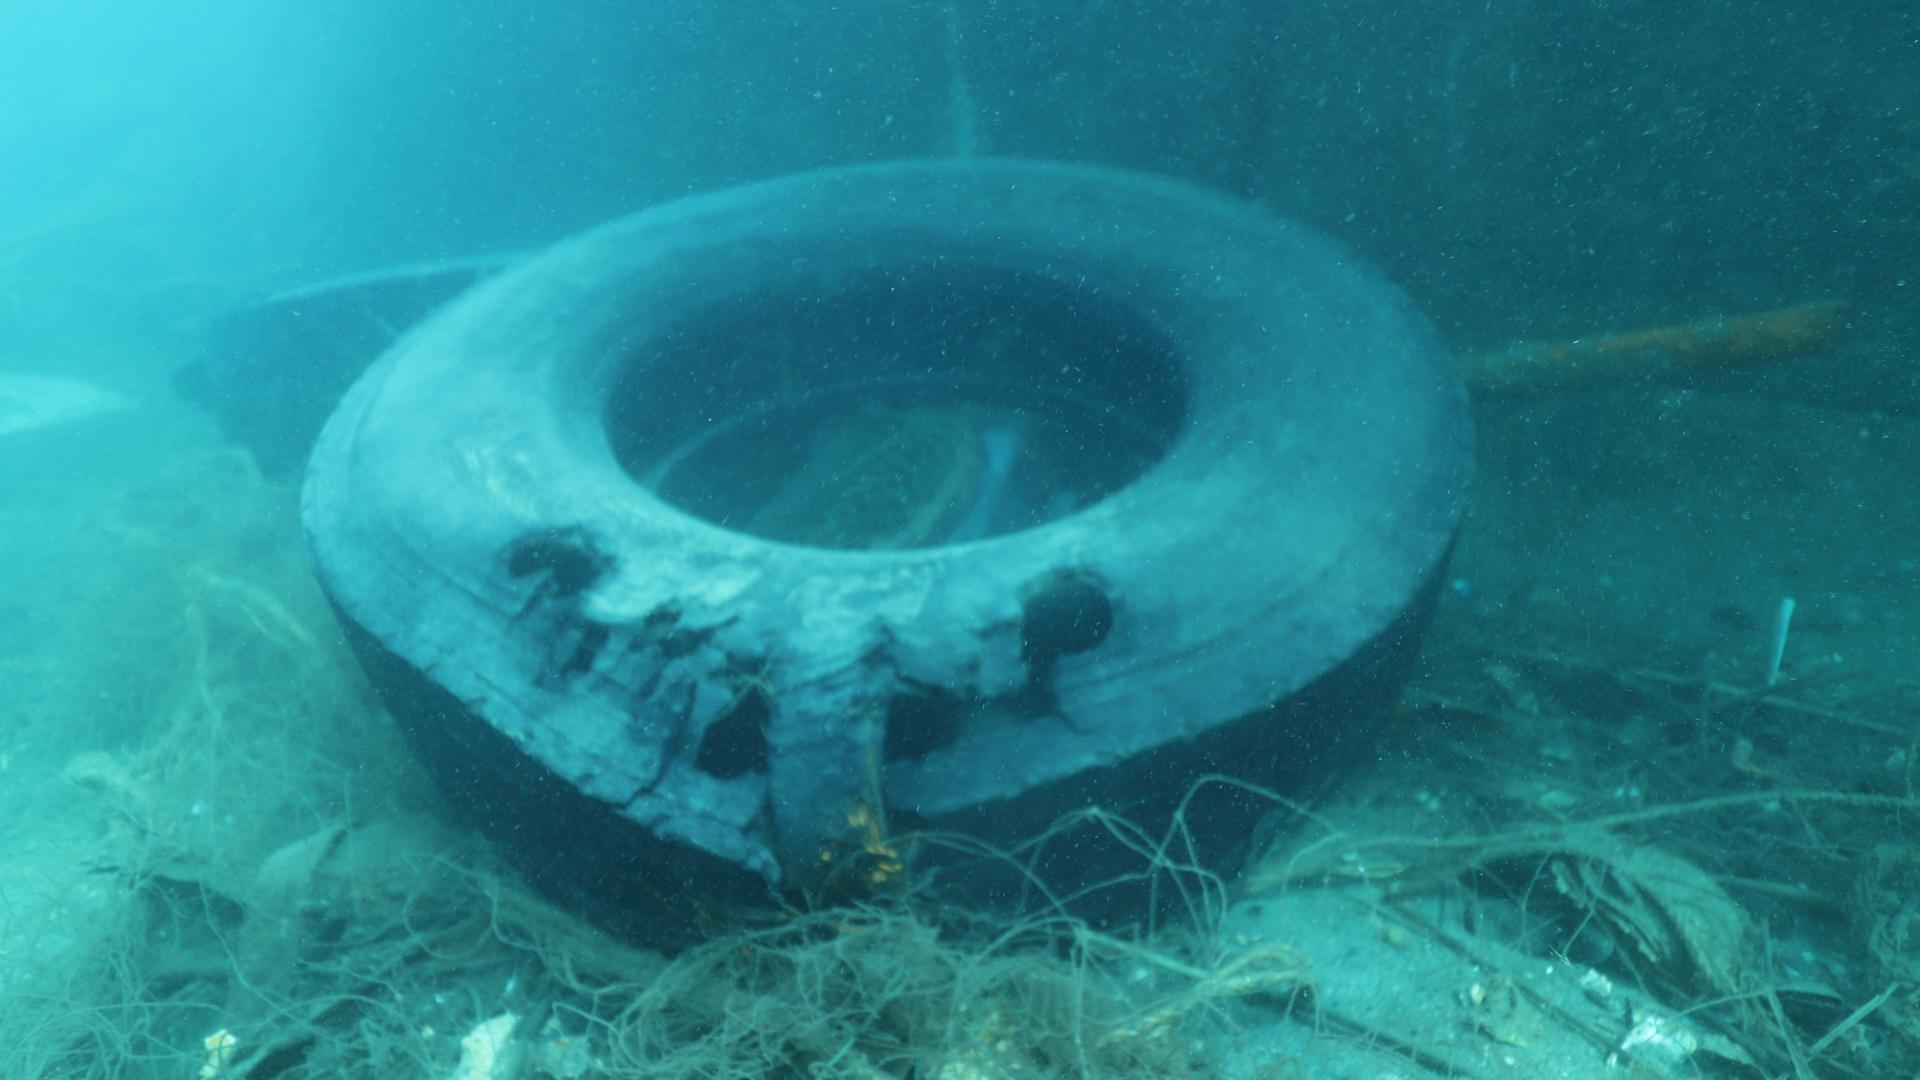tire: (302, 154, 1480, 963)
